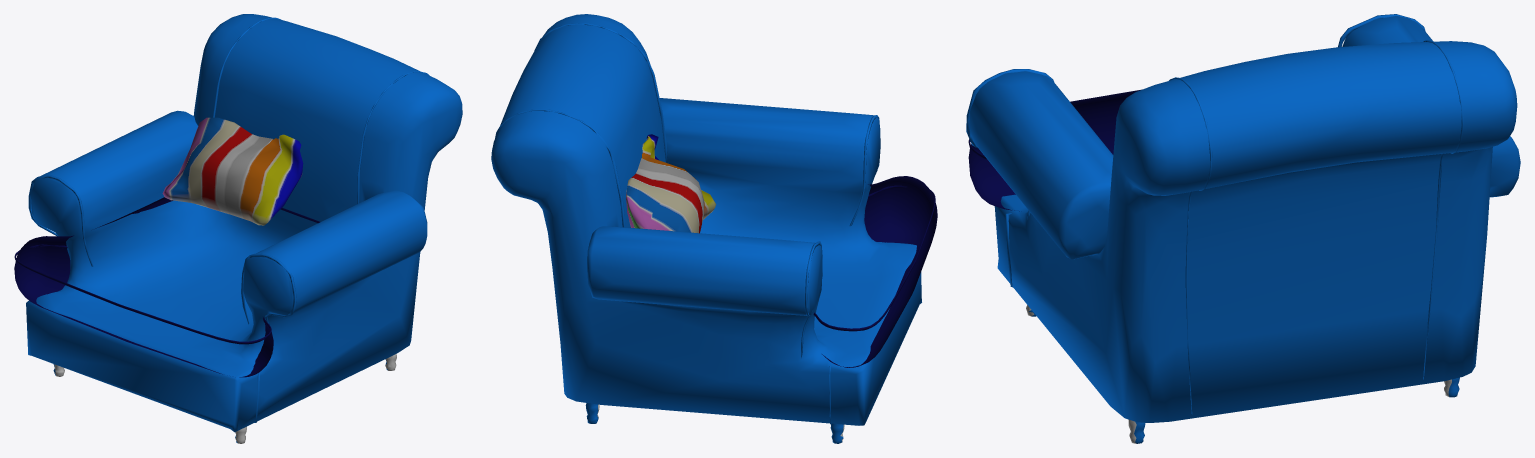
The model's file is recliner.dae.
3 renders of one model, left to right at view 1: azimuth 30°, elevation 25°; view 2: azimuth 150°, elevation 25°; view 3: azimuth 270°, elevation 25°, orthographic. The views are drawn at different scales.
Parts seen in each view (by area): view 1: chair, pillow, seat cushion; view 2: chair, seat cushion, pillow; view 3: chair, seat cushion.
Part boxes in pixels (x1,y1,x2,y2): chair: (26, 14, 462, 443); pillow: (162, 117, 303, 225); seat cushion: (14, 197, 320, 377); chair: (491, 14, 921, 443); seat cushion: (813, 176, 937, 367); pillow: (626, 134, 716, 233); chair: (966, 14, 1520, 443); seat cushion: (968, 89, 1141, 211).
Bounding box in the file's own units: 9.9 × 9.17 × 7.
Materials: 1 (1 with a texture image).
